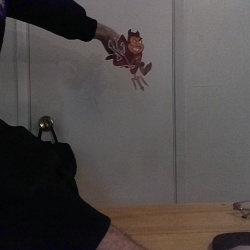sparky: (103, 27, 152, 91)
